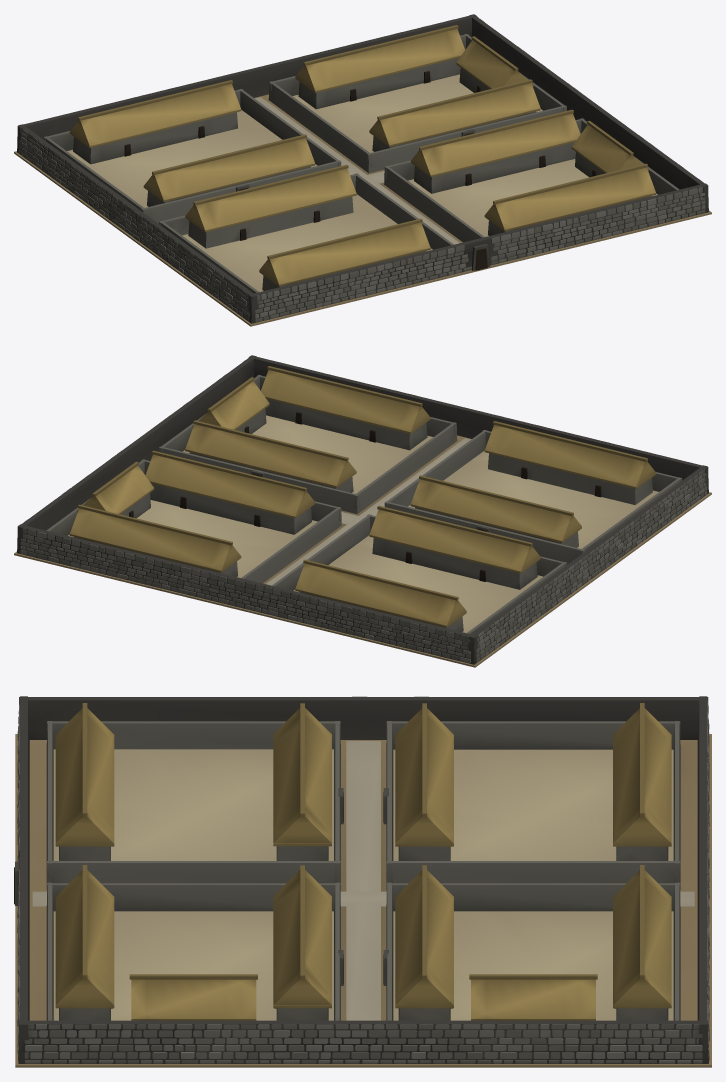
Rendered from hatunkancha.glb.
The picture shows the model from 3 angles, top to bottom: view 1: azimuth 30°, elevation 25°; view 2: azimuth 150°, elevation 25°; view 3: azimuth 270°, elevation 25°; orthographic projection. The views are drawn at different scales.
Visible parts, largest first — view 1: p1_walls, p2_roofs, p0_ground; view 2: p1_walls, p2_roofs, p0_ground; view 3: p1_walls, p2_roofs, p0_ground.
Part boxes in pixels (bbox=[...]): p1_walls: bbox=[17, 14, 708, 323]; p2_roofs: bbox=[69, 25, 656, 286]; p0_ground: bbox=[14, 94, 711, 326]; p1_walls: bbox=[17, 355, 708, 664]; p2_roofs: bbox=[69, 366, 656, 627]; p0_ground: bbox=[14, 435, 711, 667]; p1_walls: bbox=[14, 696, 709, 1063]; p2_roofs: bbox=[55, 703, 671, 1020]; p0_ground: bbox=[15, 734, 711, 1067].
Bounding box in the file's own units: 90 × 7.97 × 80.15.
